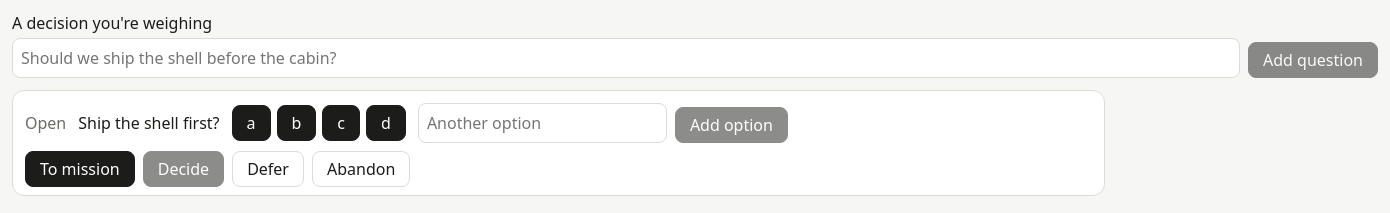
Journal › adds an option and hides the box at five
This screenshot has width=1390, height=213.
Type "e" into the field named "New option" at {"x": 542, "y": 123}, box [418,103,667,143]
Then press Enter
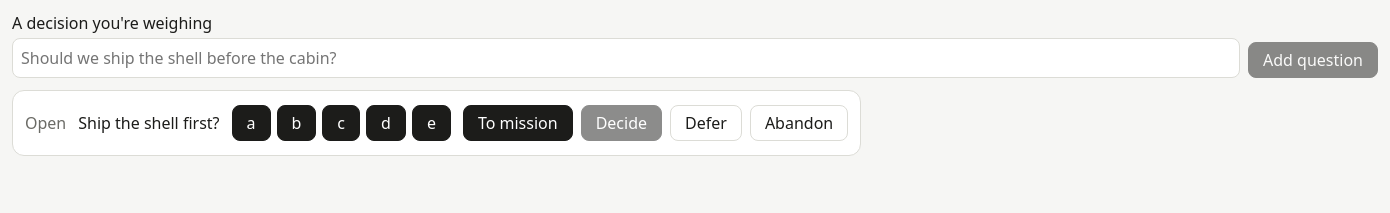
Expected: the button "e" is shown, [412,105,451,141]
